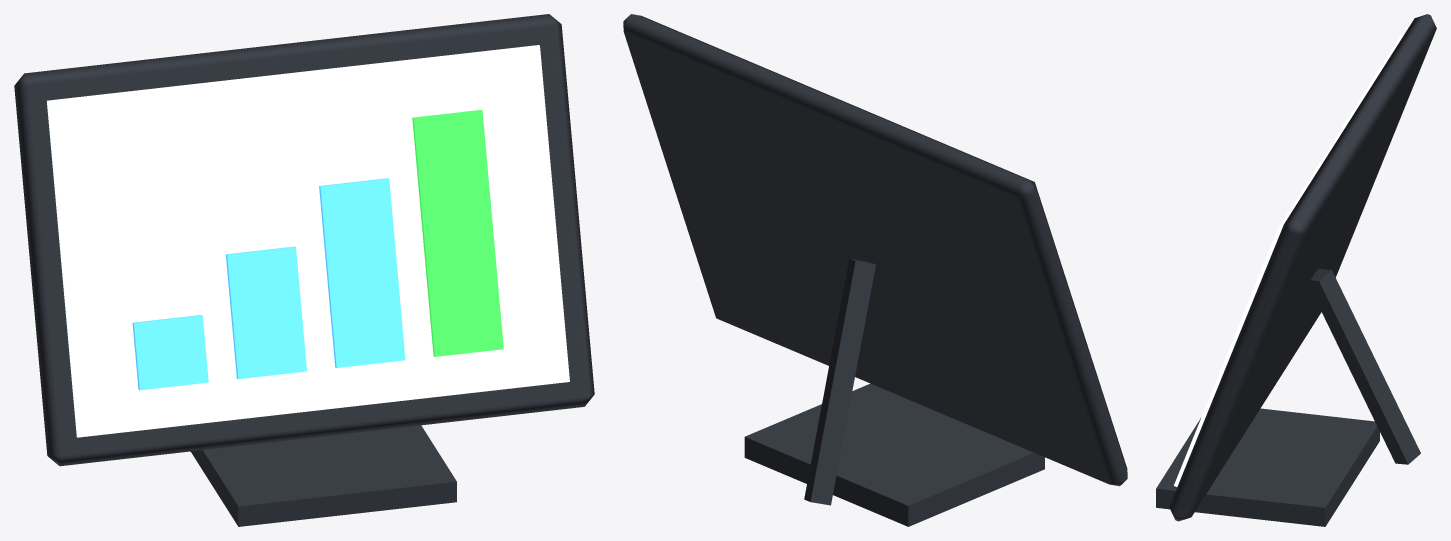
The model's file is station_intake_ausstattung_2_1.glb.
3 views of the same model, side by side, from view 1: azimuth 30°, elevation 25°; view 2: azimuth 150°, elevation 25°; view 3: azimuth 270°, elevation 25° (orthographic). The views are drawn at different scales.
Visible parts, largest first — view 1: station_intake_ausstattung_2_1; view 2: station_intake_ausstattung_2_1; view 3: station_intake_ausstattung_2_1.
Part boxes in pixels (left/top/right/bottom): station_intake_ausstattung_2_1: left=14, top=14, right=594, bottom=526; station_intake_ausstattung_2_1: left=623, top=14, right=1127, bottom=526; station_intake_ausstattung_2_1: left=1156, top=14, right=1436, bottom=526.
Bounding box in the file's own units: 0.3078 × 0.229 × 0.1602.
